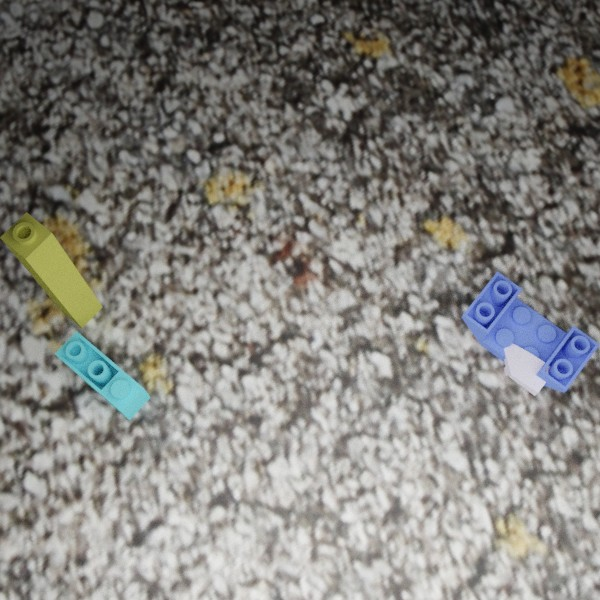lego: (461, 271, 600, 392), (0, 212, 102, 328), (54, 331, 150, 420), (499, 339, 555, 395)
